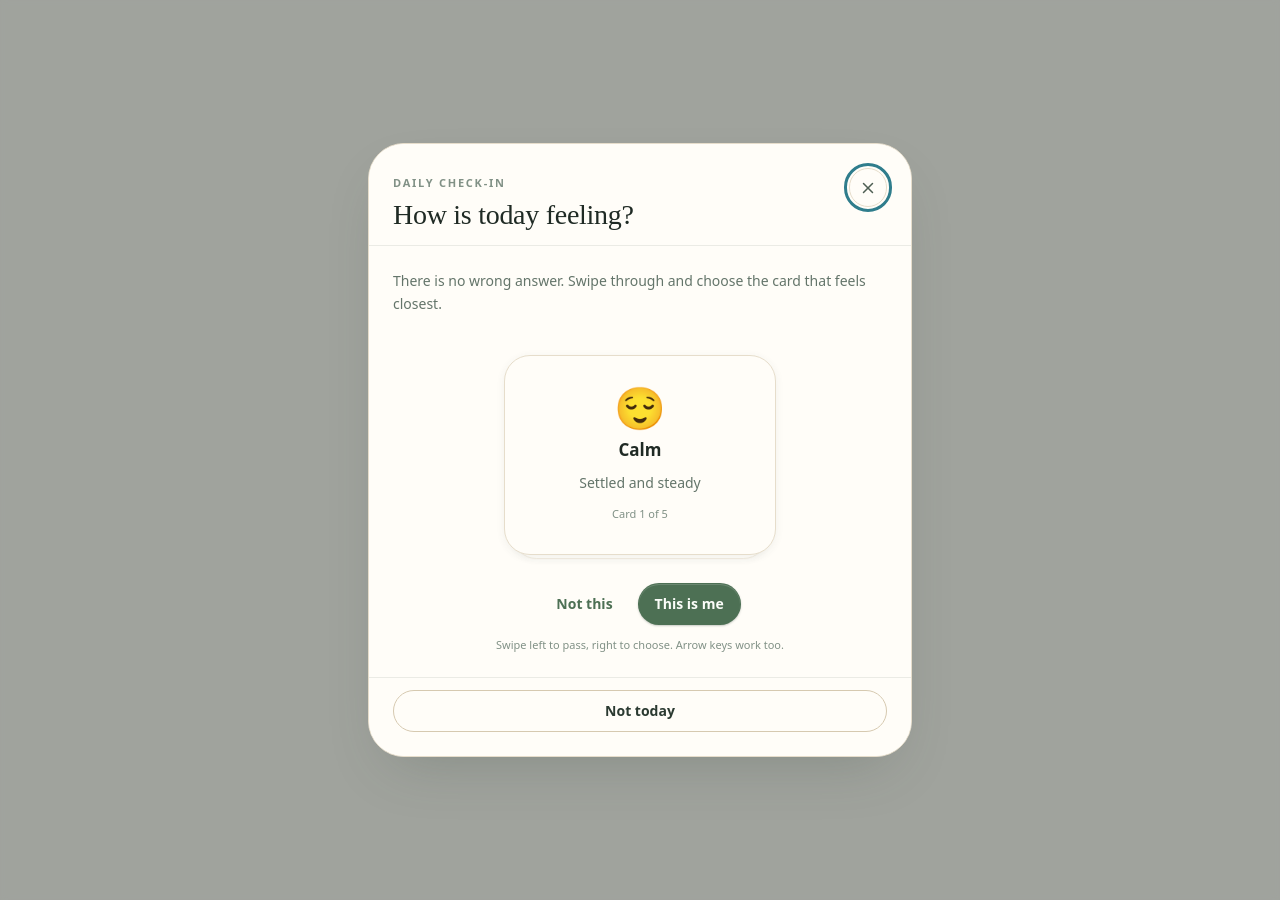
Test: MoodCheckIn deck › saves the chosen mood and shows a gentle suggestion
Click the button "This is me".
click(689, 604)  # box [638,583,741,624]
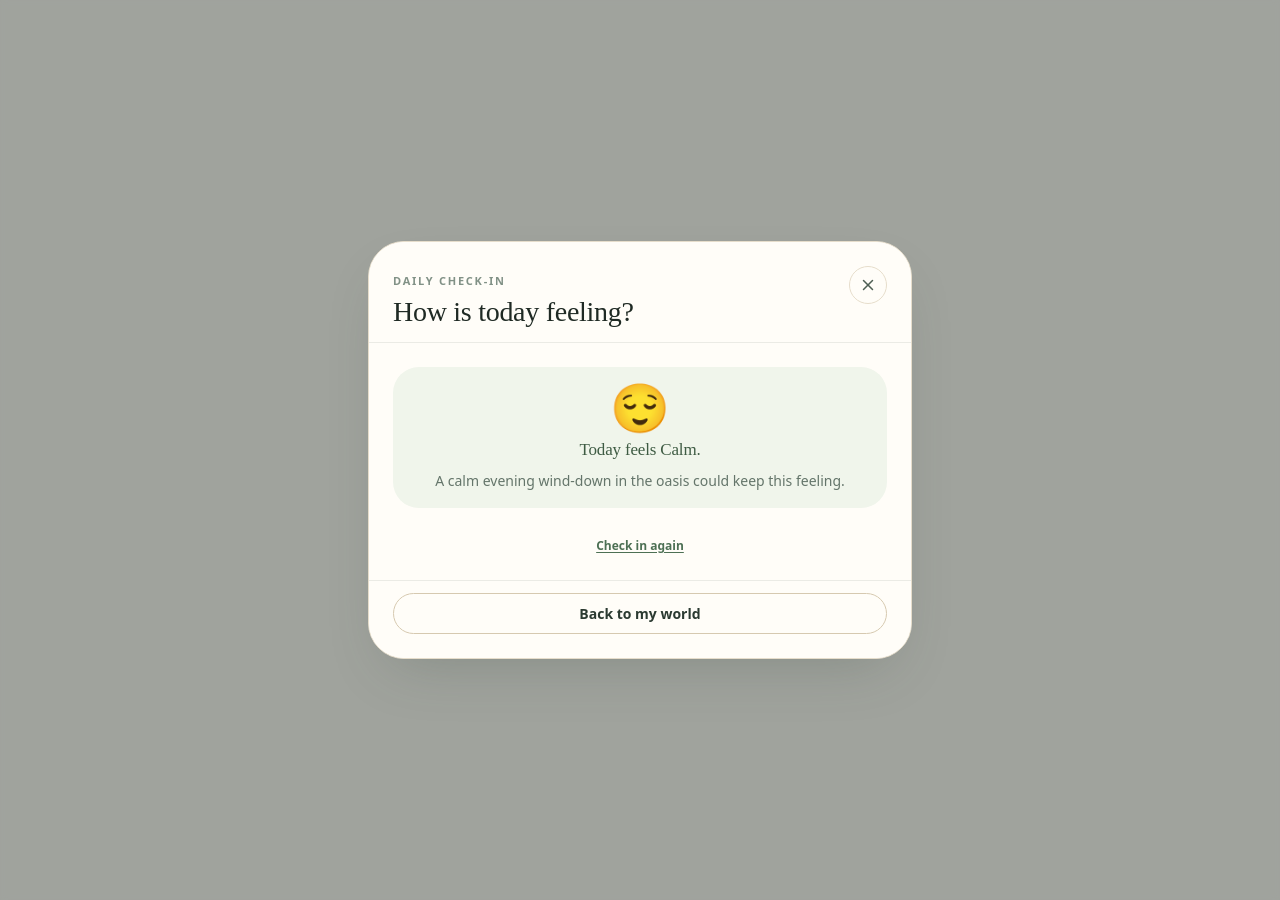
Expected: the heading "Today feels Calm." is shown, [580,440,700,462]
Expected: the text "A calm evening wind-down" is shown, [435,470,845,490]
Click the button "Check in again".
click(640, 546)  # box [393,536,887,556]
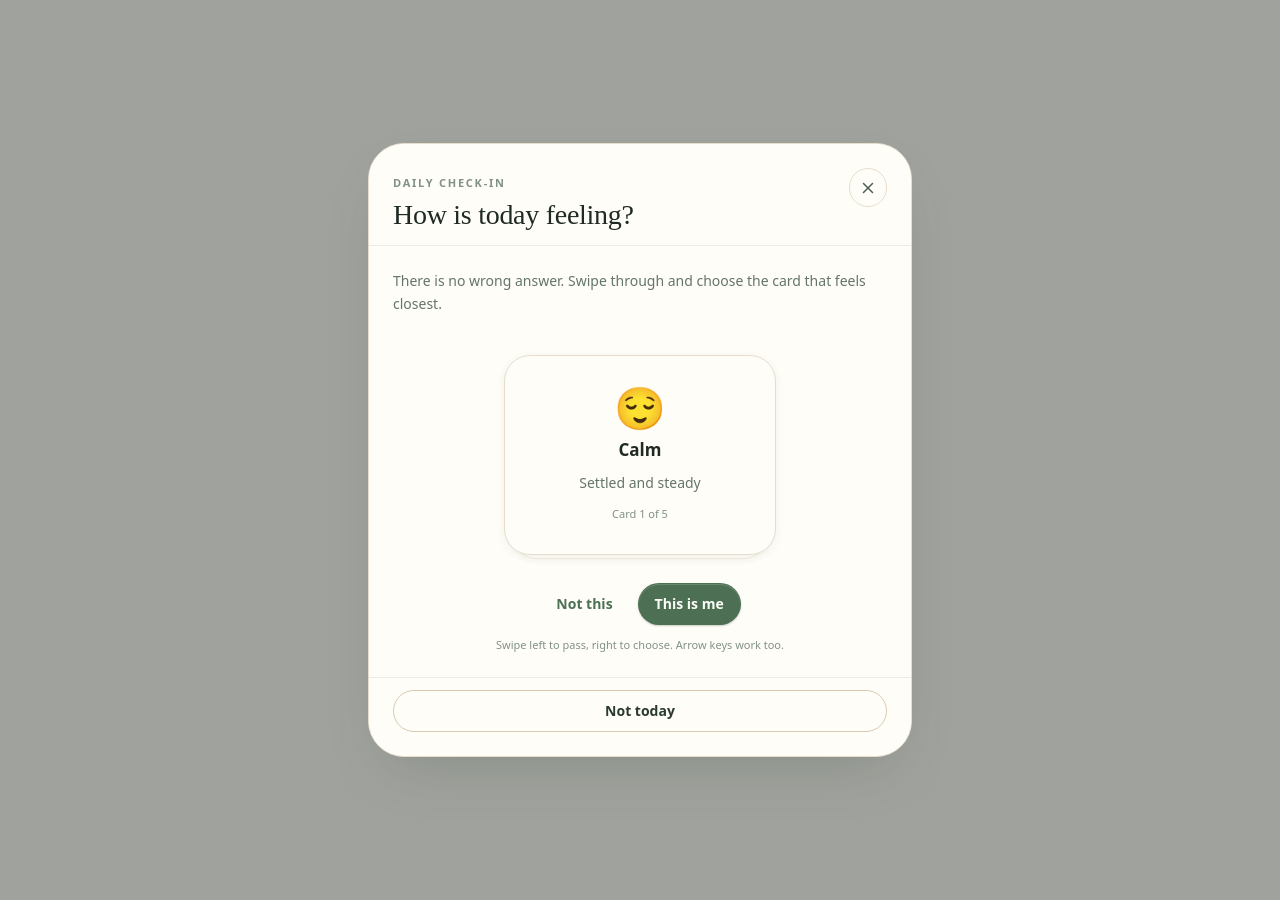
Expected: the text "Card 1 of 5" is shown, [612,505,668,523]
